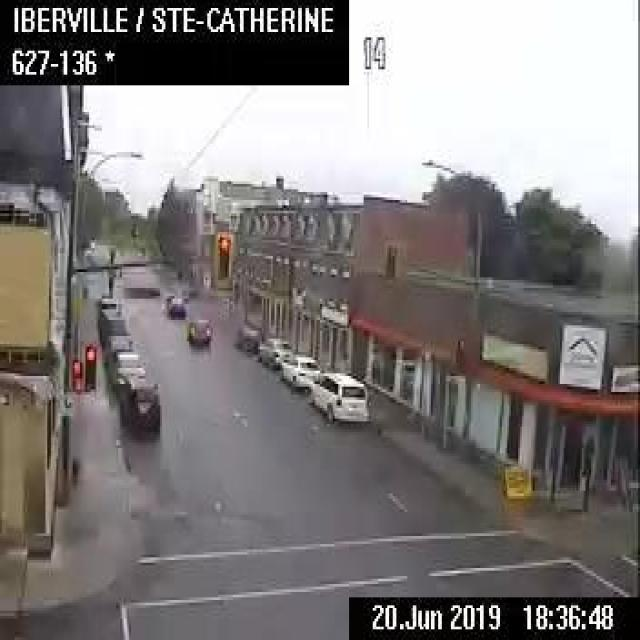vehicle: (309, 369, 369, 427), (119, 386, 160, 432), (107, 346, 144, 392), (277, 350, 316, 388), (256, 335, 289, 368), (232, 322, 262, 351), (185, 314, 212, 346), (97, 309, 125, 338), (101, 335, 130, 362), (95, 293, 119, 313), (165, 295, 184, 316)
